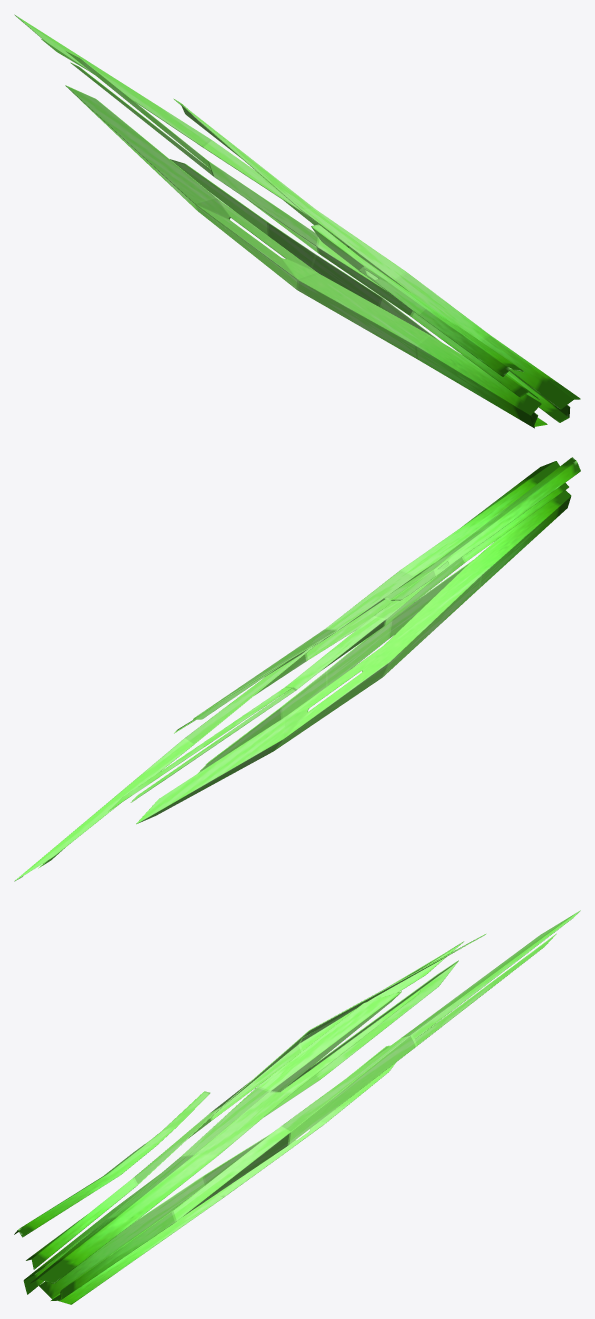
The model's file is Tree5.fbx.
The picture shows the model from 3 angles, top to bottom: view 1: azimuth 30°, elevation 25°; view 2: azimuth 150°, elevation 25°; view 3: azimuth 330°, elevation 25°; orthographic projection. The views are drawn at different scales.
Parts seen in each view (by area): view 1: Seaweed3; view 2: Seaweed3; view 3: Seaweed3.
Boxes of the visible parts, <box> form: Seaweed3: <box>14,14,580,428</box>; Seaweed3: <box>14,457,580,881</box>; Seaweed3: <box>14,910,580,1304</box>.
Bounding box in the file's own units: 2307 × 2645 × 31803.
Materials: 1 (1 with a texture image).
